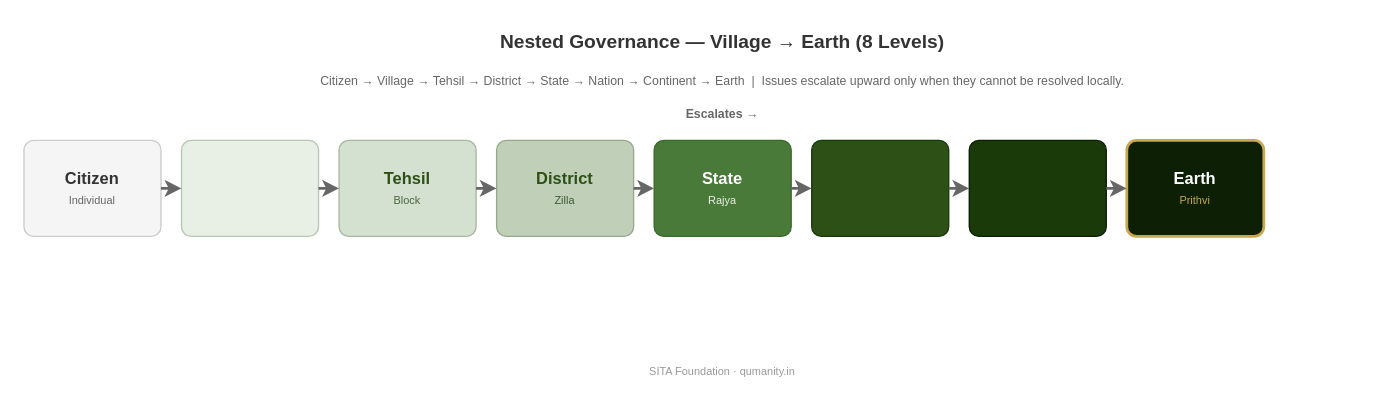
Some shapes in this 1391 by 407 pixel diagram are drawn without their labels. Each missing label, with the box of its shape:
Continent Mahadesh: (968, 139, 1106, 236)
Nation Desh: (810, 139, 949, 236)
Village Gram Panchayat: (180, 139, 319, 236)
